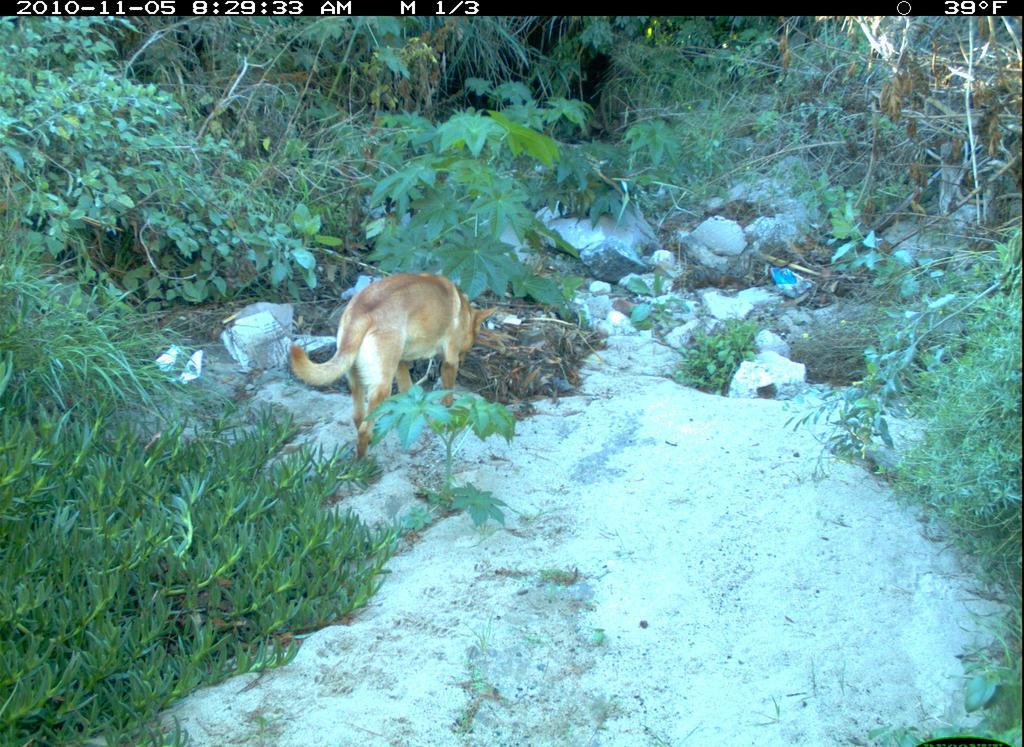dog: (292, 269, 507, 461)
